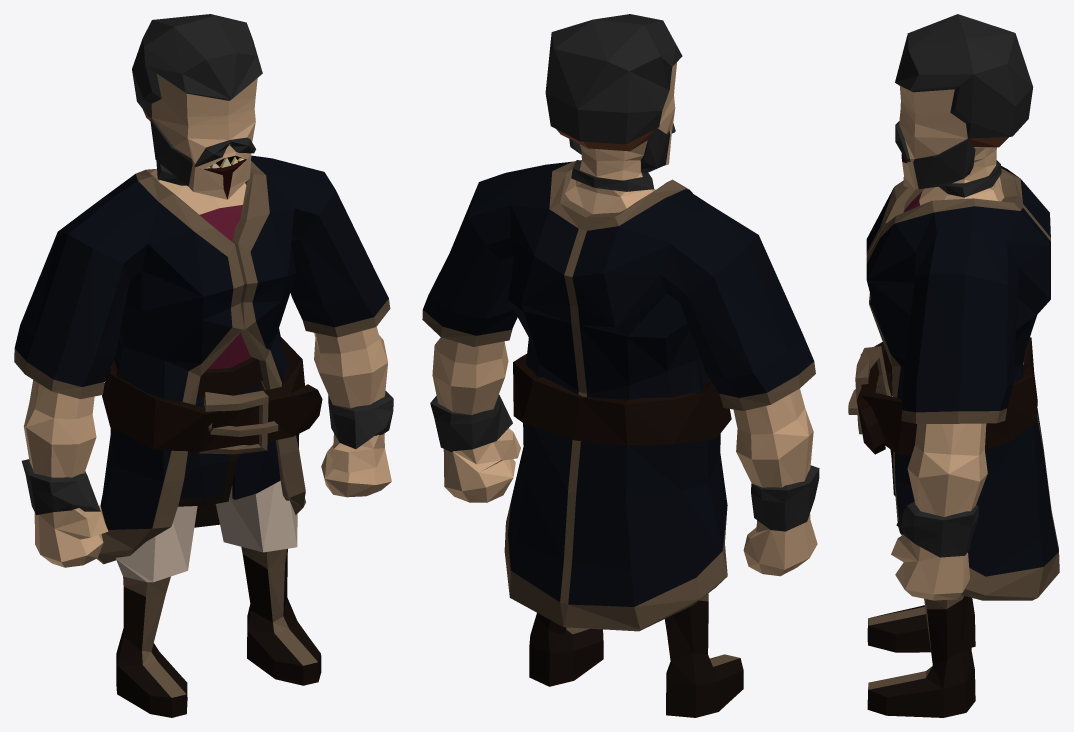
Rendered from VampireIdle1.dae.
3 renders of one model, left to right at view 1: azimuth 30°, elevation 25°; view 2: azimuth 150°, elevation 25°; view 3: azimuth 270°, elevation 25°, orthographic. The views are drawn at different scales.
Parts seen in each view (by area): view 1: _0_VAMPIREbase1_01exp_Layer3; view 2: _0_VAMPIREbase1_01exp_Layer3; view 3: _0_VAMPIREbase1_01exp_Layer3.
Part boxes in pixels (x1=…): _0_VAMPIREbase1_01exp_Layer3: x1=14, y1=14, x2=393, y2=717; _0_VAMPIREbase1_01exp_Layer3: x1=422, y1=14, x2=819, y2=717; _0_VAMPIREbase1_01exp_Layer3: x1=848, y1=14, x2=1059, y2=717.
Bounding box in the file's own units: 5.2 × 2.66 × 8.97.
